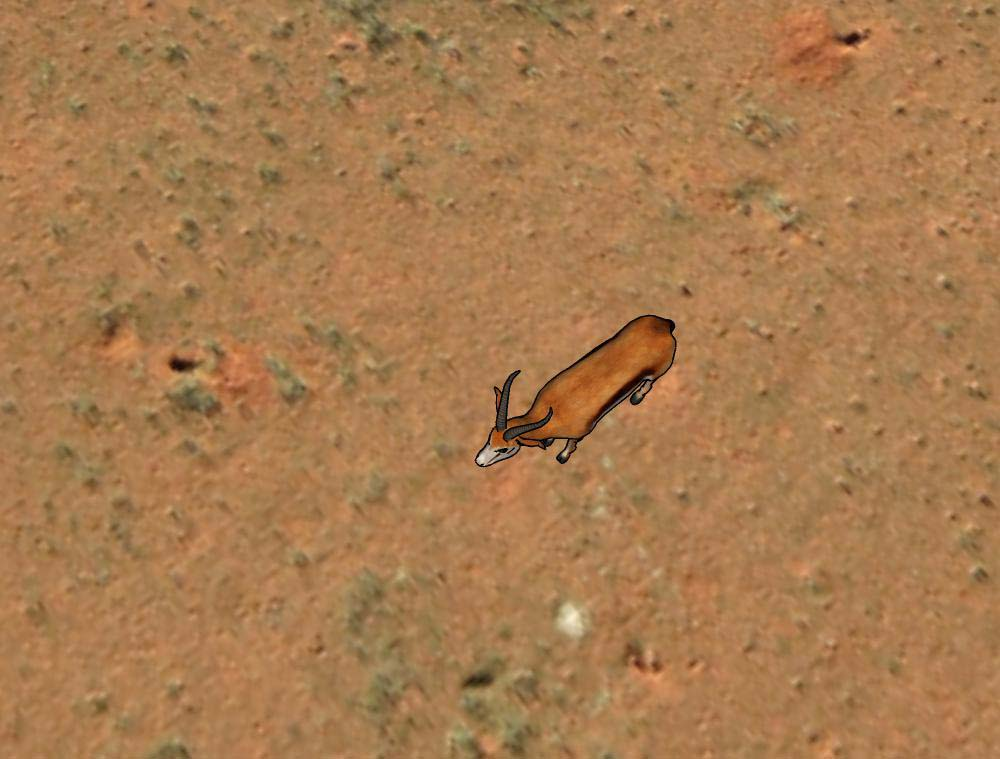springbok: (474, 312, 681, 475)
